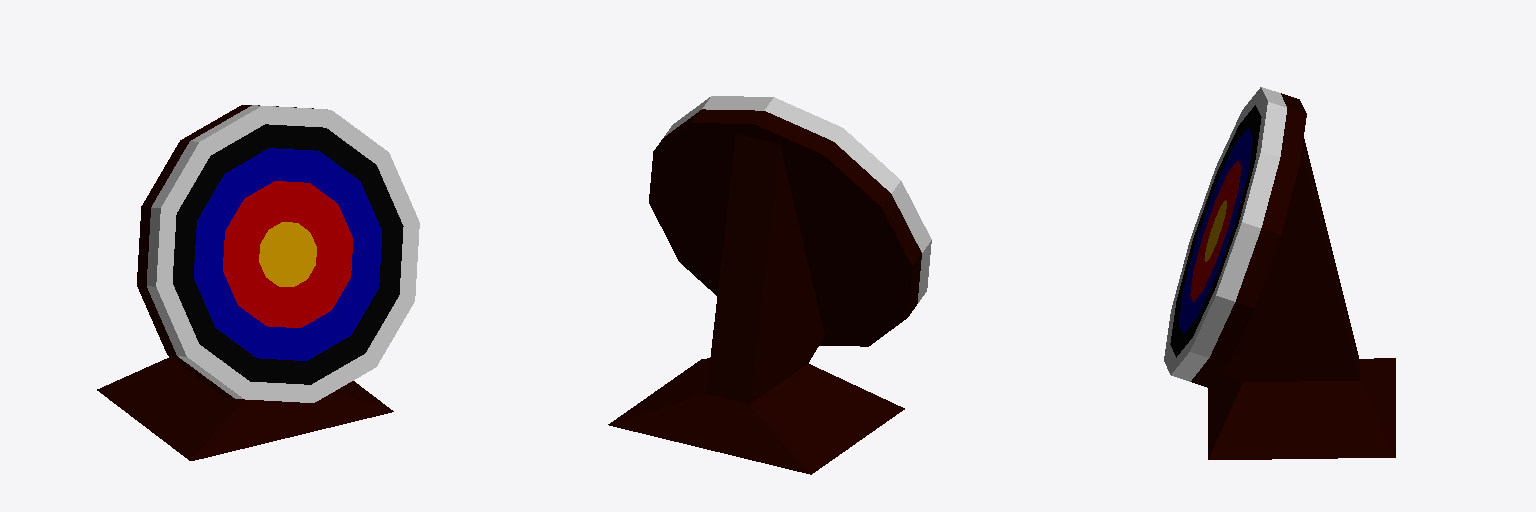
Rendered from target_practice.obj.
3 renders of one model, left to right at view 1: azimuth 30°, elevation 25°; view 2: azimuth 150°, elevation 25°; view 3: azimuth 270°, elevation 25°, orthographic.
Visible parts, largest first — view 1: Cylinder_Cylinder.001; view 2: Cylinder_Cylinder.001; view 3: Cylinder_Cylinder.001.
Boxes of the visible parts, box(x1,y1,x2,y2) form: Cylinder_Cylinder.001: box(97, 105, 419, 460); Cylinder_Cylinder.001: box(608, 96, 931, 474); Cylinder_Cylinder.001: box(1164, 87, 1395, 459).
Size of the model in its own units: 2 by 2.24 by 1.53.